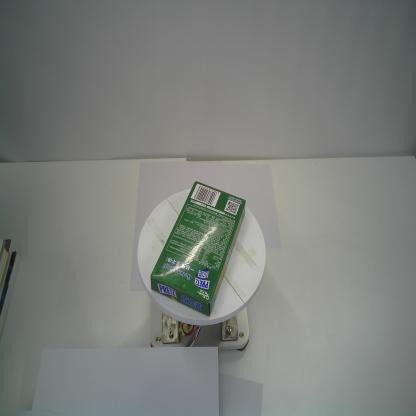Dessert: (150, 181, 247, 318)
